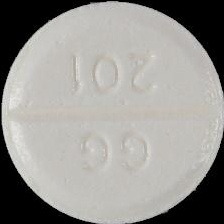0904-5797: (0, 0, 224, 224)
